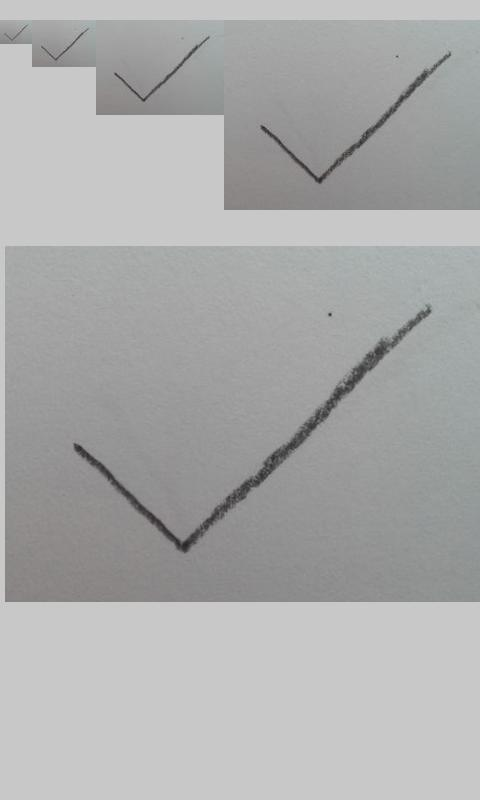check_box: (74, 307, 430, 553), (262, 53, 448, 185), (114, 37, 208, 102), (41, 28, 88, 61), (4, 24, 28, 41)
